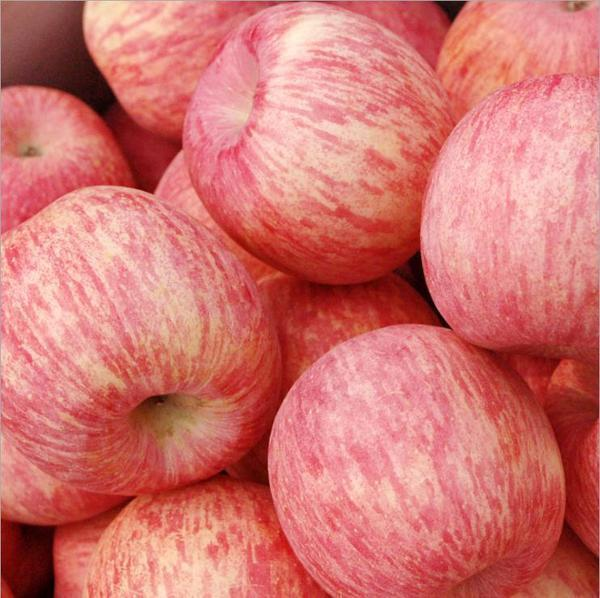apple: (5, 181, 280, 492), (267, 317, 565, 596), (180, 5, 456, 288), (420, 69, 595, 351)
